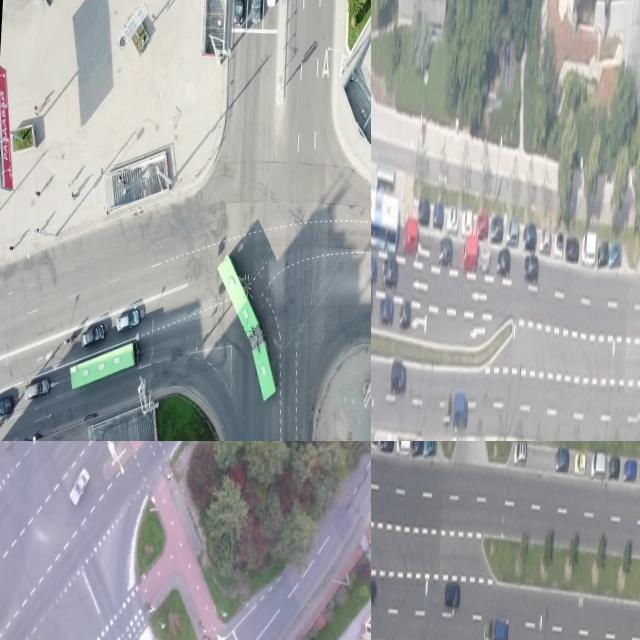UAI: (68, 466, 91, 507), (403, 218, 419, 256), (80, 324, 105, 348), (24, 378, 50, 401), (461, 237, 478, 272), (453, 393, 469, 429), (391, 362, 408, 395), (116, 309, 140, 332), (523, 252, 540, 284), (382, 258, 399, 289), (581, 231, 596, 266), (590, 448, 606, 479), (379, 294, 394, 326), (505, 216, 519, 248), (438, 238, 453, 267), (444, 583, 460, 609), (497, 248, 511, 277), (523, 222, 537, 251), (491, 215, 504, 246), (565, 235, 579, 263), (608, 242, 622, 268), (555, 446, 569, 472), (476, 211, 488, 240), (461, 208, 473, 237), (0, 394, 12, 422), (399, 303, 411, 331), (447, 205, 459, 233), (493, 619, 508, 640), (233, 0, 245, 26), (418, 199, 430, 225), (608, 454, 620, 479), (250, 0, 263, 23), (623, 458, 636, 481), (513, 442, 526, 465), (597, 240, 608, 267), (433, 202, 444, 229), (574, 451, 586, 474), (442, 398, 452, 425), (540, 230, 551, 254), (480, 247, 490, 273), (554, 231, 564, 257), (423, 441, 437, 455), (396, 441, 410, 455), (371, 256, 377, 284), (412, 441, 424, 455), (380, 441, 394, 453), (483, 622, 492, 640), (371, 577, 376, 605), (371, 441, 378, 447)
car: (211, 255, 282, 403), (68, 338, 138, 394), (371, 186, 400, 252)
